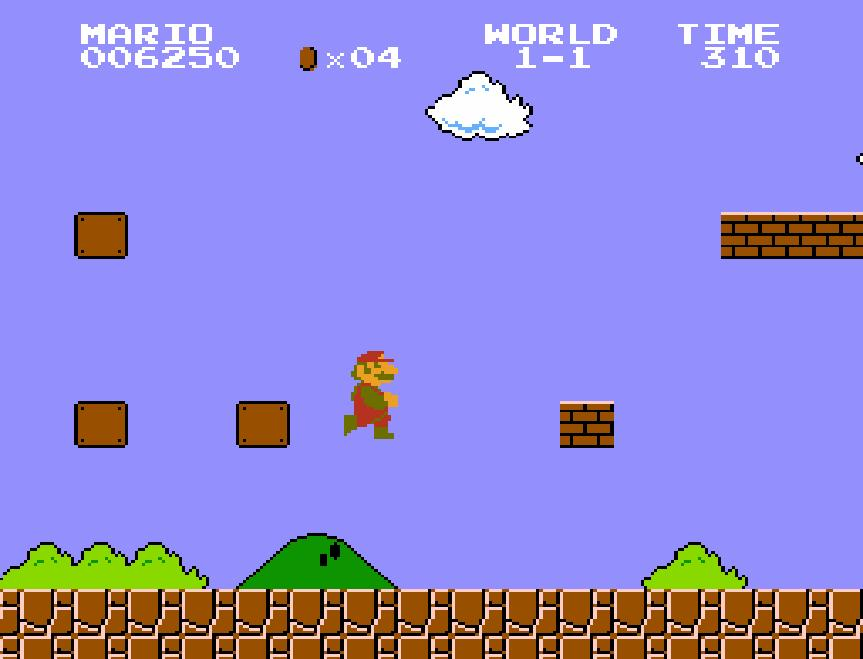big_mario: (342, 342, 400, 440)
